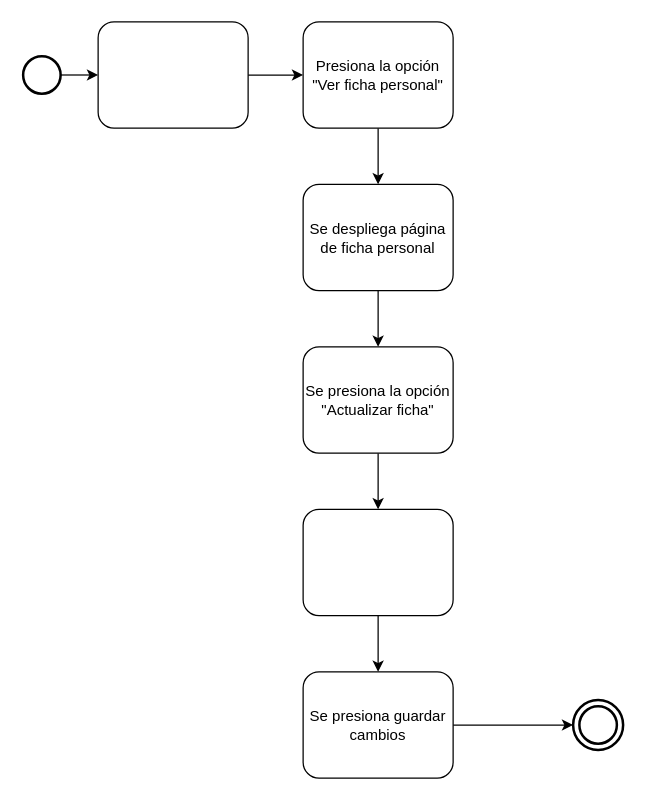
Image size: 645x800. Some labels were removed from this diagram. Each missing label, with the centre of its shape:
Presionar el botón "Pestaña hambuerguesa" en la esquina superior derecha: [172,74]
Se completan los campos vacíos o actualizan los registrados anteriormente: [377,562]
